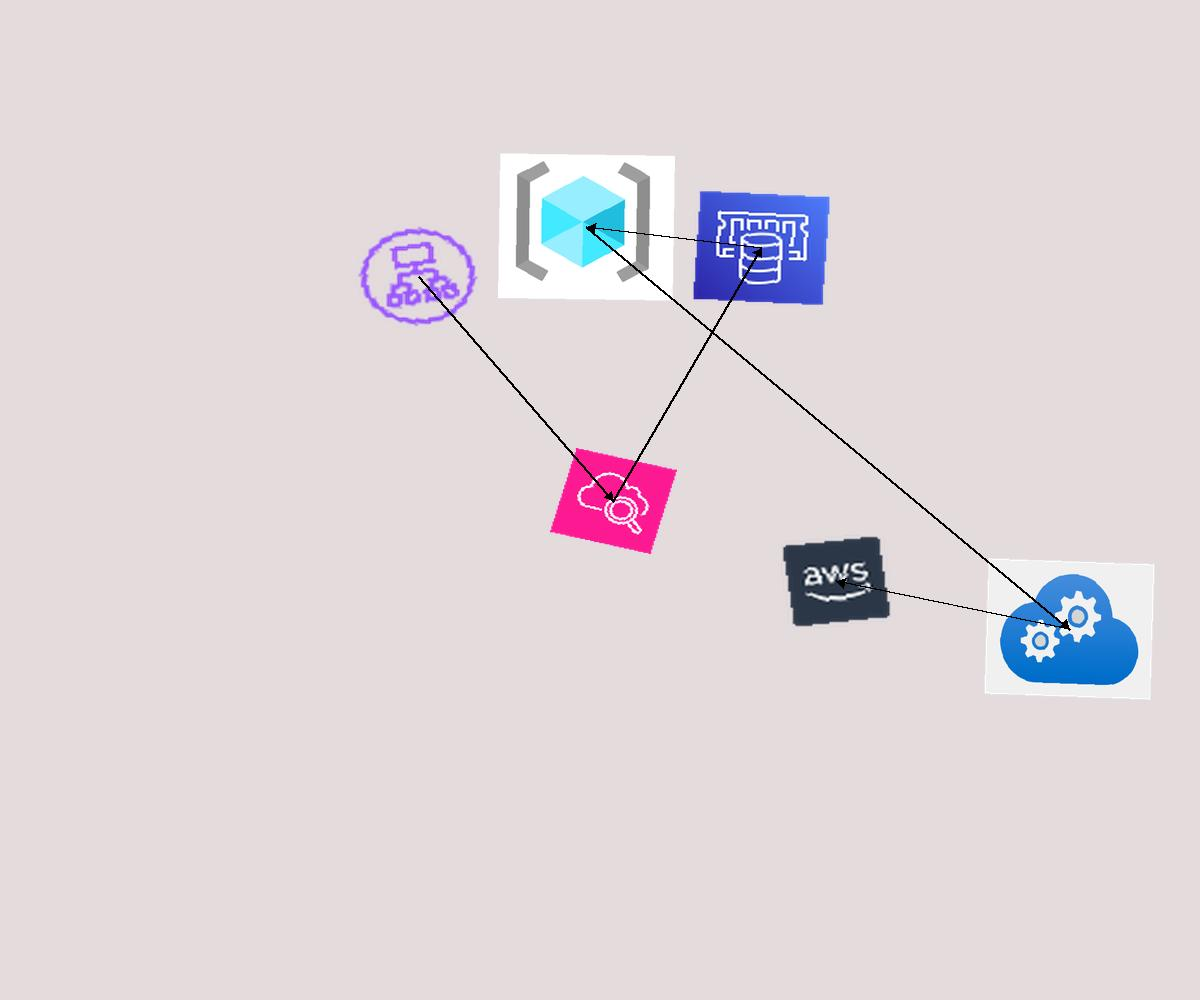AWS-Cloud-logo: (781, 535, 892, 628)
AWS-CloudWatch: (550, 448, 677, 554)
AWS-ElastiCache: (692, 190, 831, 306)
AWS-Res_Elastic-Load-Balancing_Application-Load-Balancer: (343, 214, 493, 339)
Azure_cloud_services: (984, 558, 1155, 700)
Azure_resource_group: (498, 153, 675, 301)
